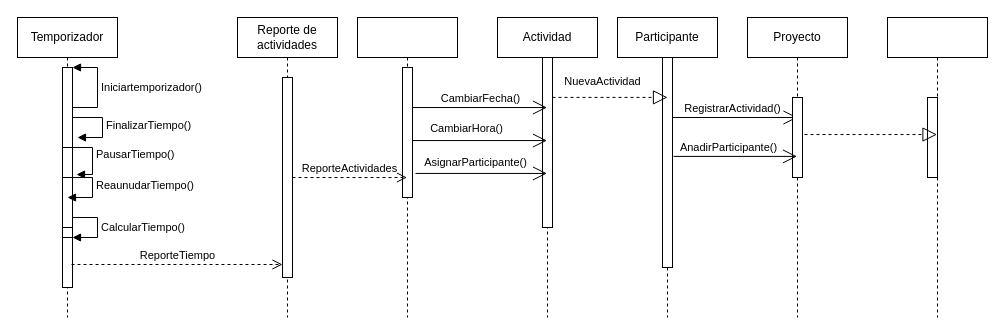
Image size: 1005x335. Some labels were removed from this diagram. Here are the shapes that lost their labels. From the top down, the box of each, then its label:
(356, 16, 458, 318): Registro de Actividades
(886, 16, 988, 318): App
